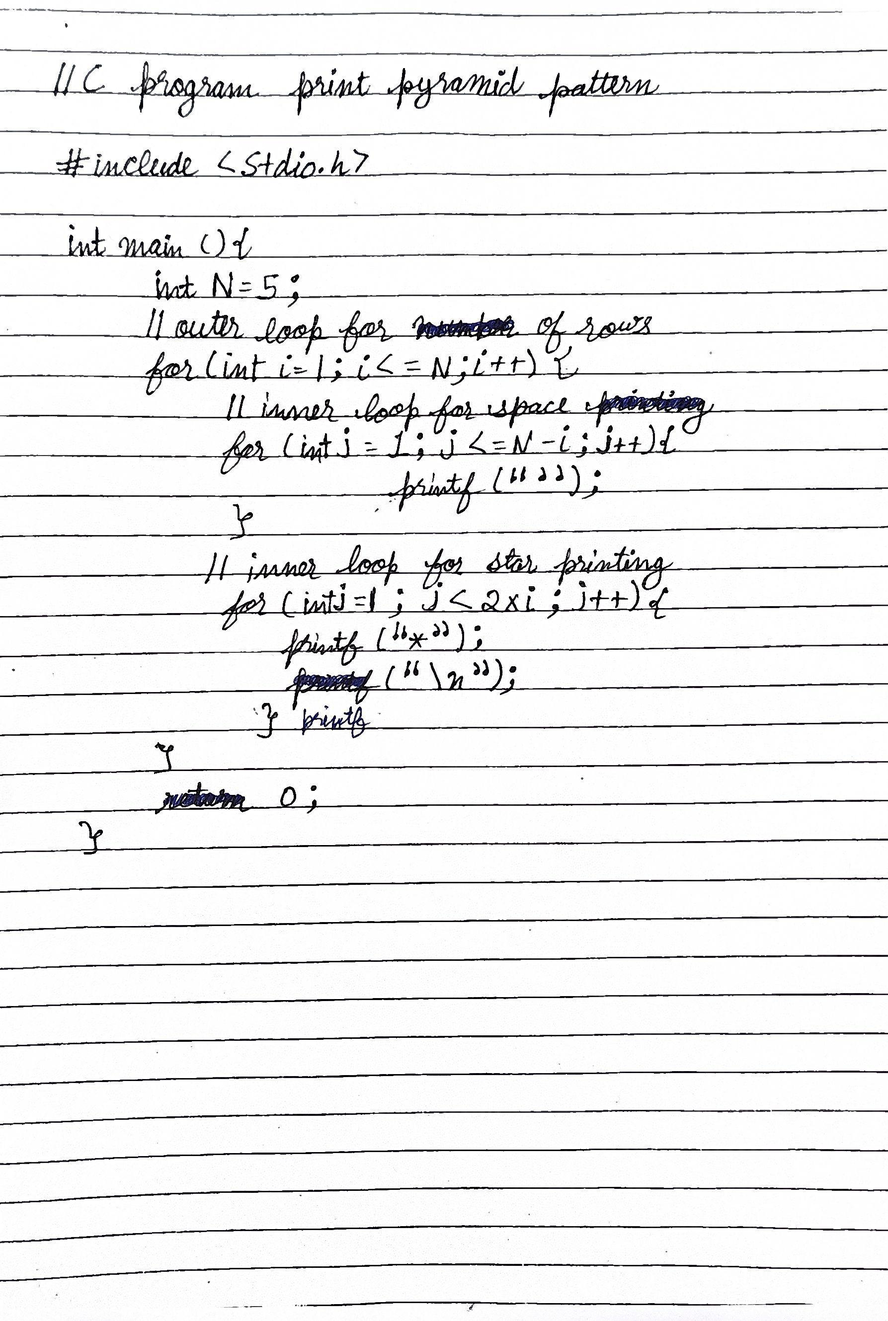cuttings: (583, 389, 715, 434), (283, 667, 376, 710), (154, 783, 256, 815), (411, 313, 519, 343)
